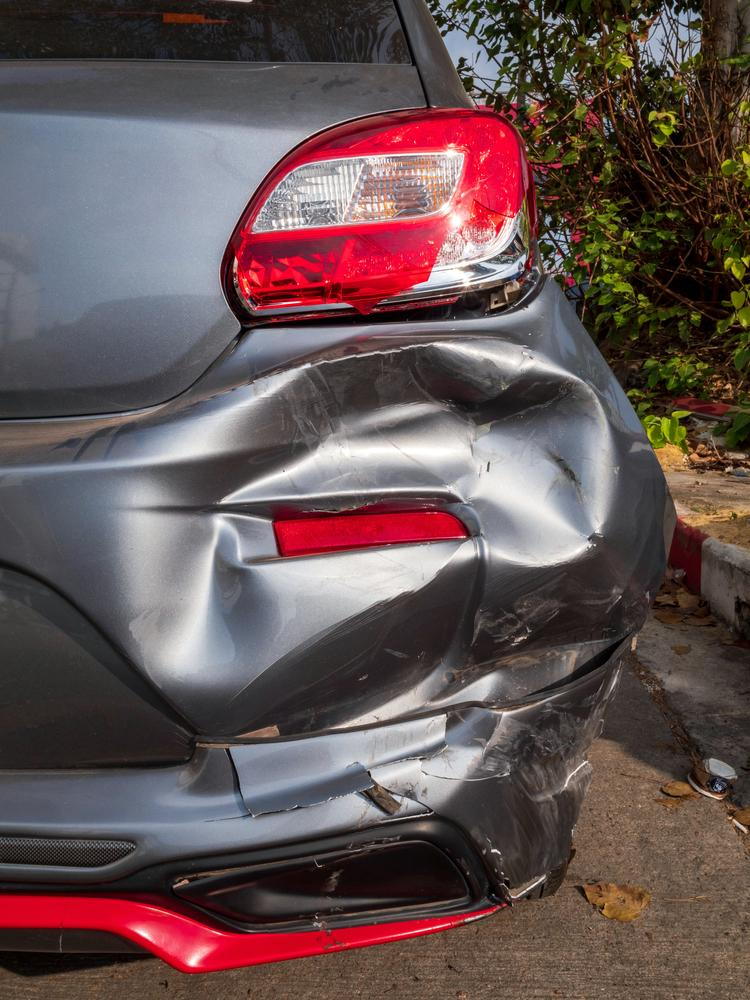crack: (203, 708, 517, 825), (520, 628, 635, 698), (479, 831, 549, 901), (300, 497, 386, 513)
dent: (135, 337, 619, 688)
lamp broken: (225, 111, 538, 321)
scratch: (480, 673, 619, 805)
